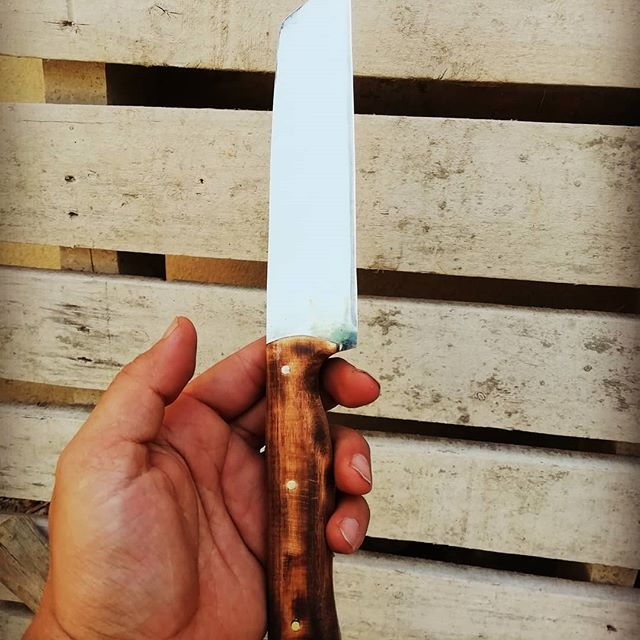knife: (266, 1, 359, 639)
